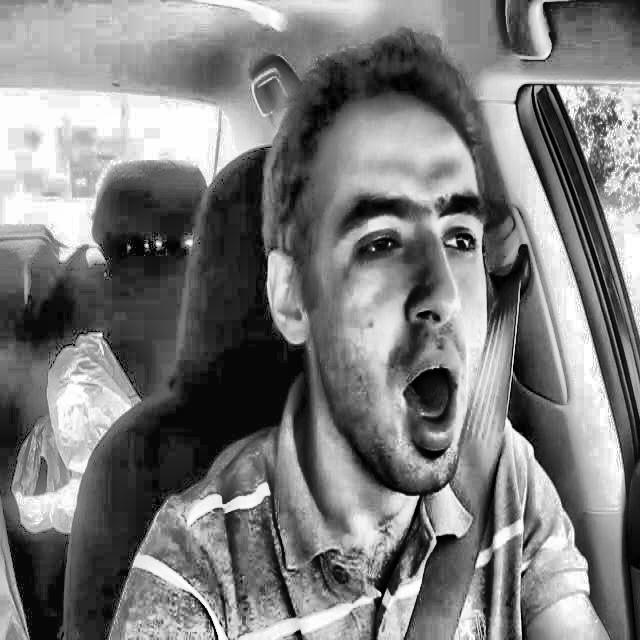open_eyes: (341, 219, 414, 271), (428, 217, 492, 273)
open_mouth: (366, 343, 478, 459)
